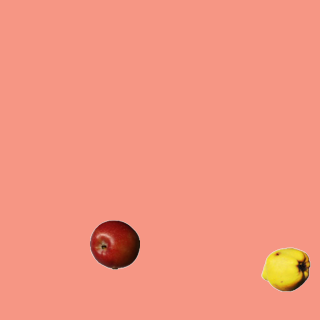Apple Braeburn: (89, 219, 139, 269)
Quince: (260, 244, 310, 294)
